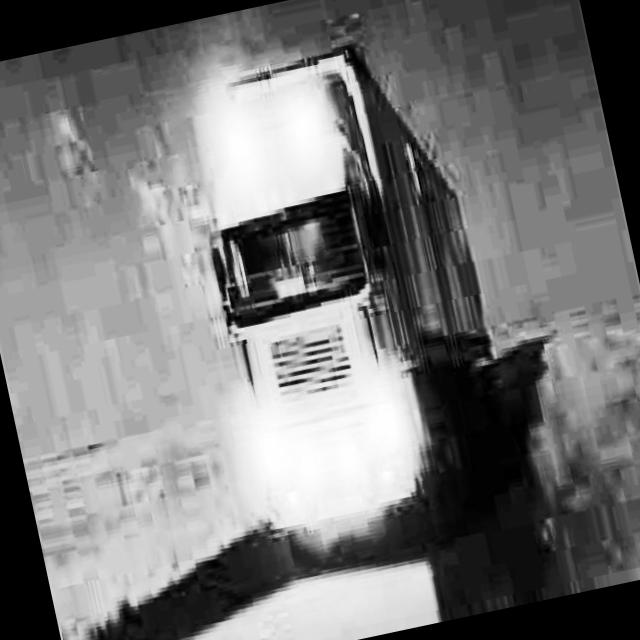Truck: (169, 23, 534, 572)
